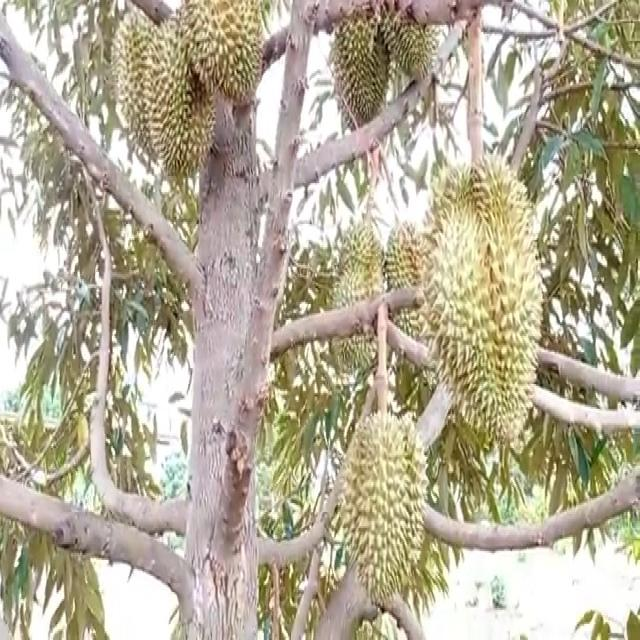durian: (419, 146, 547, 448), (332, 394, 428, 604), (143, 7, 218, 186), (111, 2, 180, 168), (328, 217, 390, 386), (181, 3, 267, 117), (382, 210, 443, 366), (324, 9, 392, 138), (377, 3, 442, 84)
